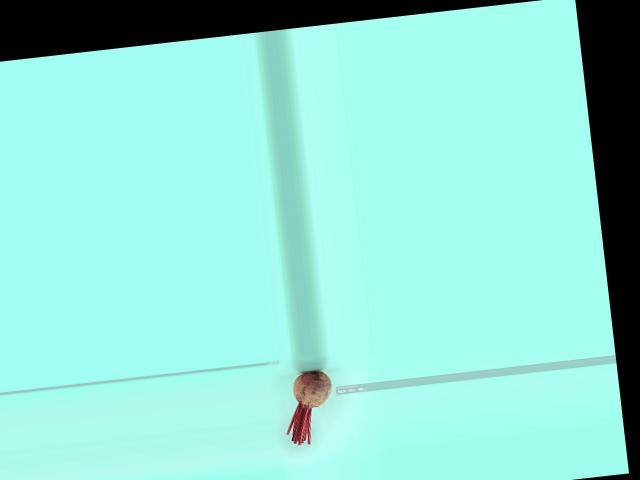beet: (280, 368, 338, 445)
